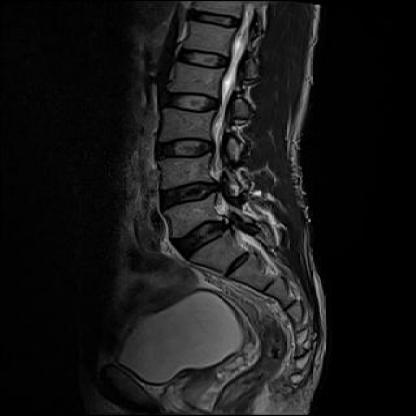Disc Bulgerotation: (169, 218, 248, 249)
